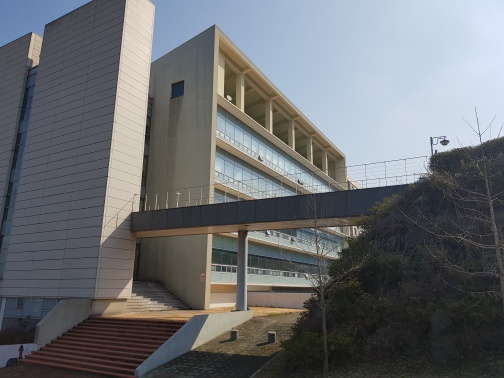Engineering College Building 4: (7, 12, 320, 304), (67, 25, 308, 294)
